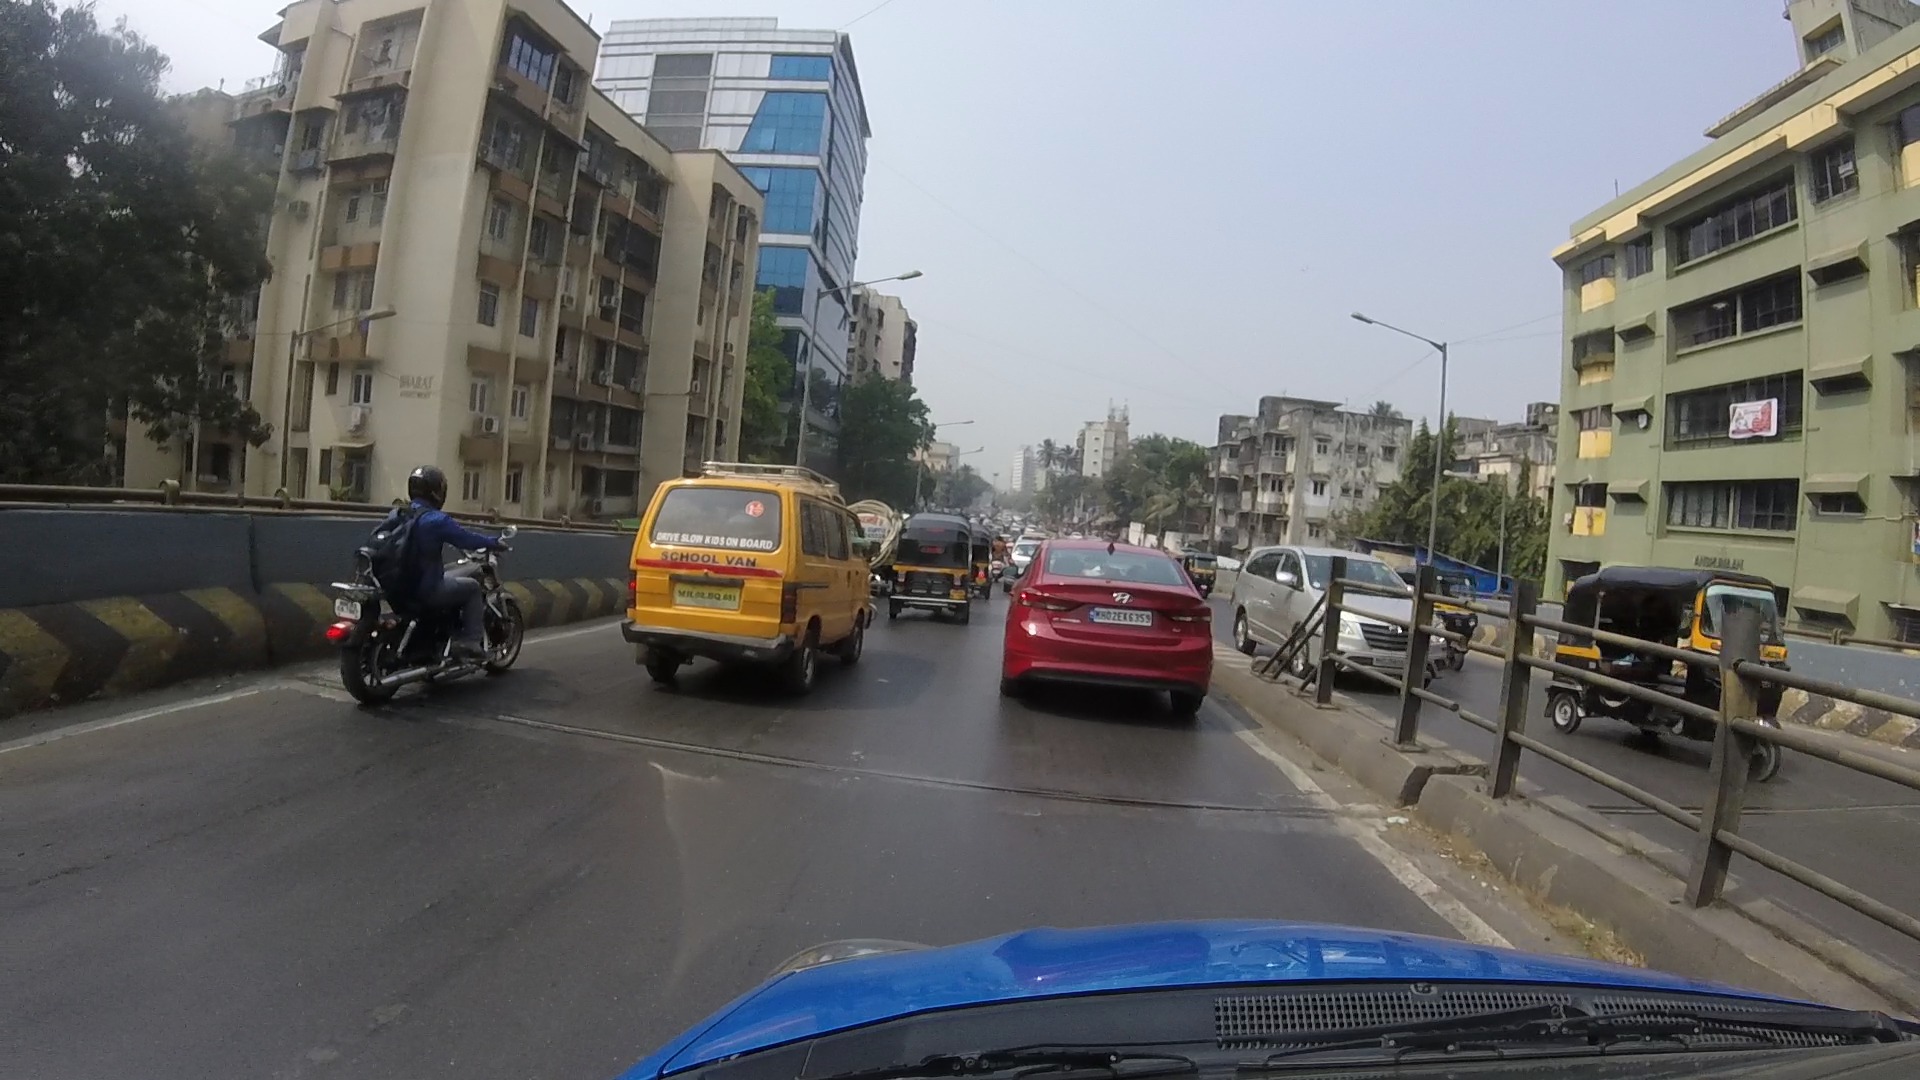bike/scooter: (324, 469, 534, 702)
car: (625, 463, 872, 688), (1007, 530, 1225, 713), (1237, 530, 1440, 698)
rickshaw: (1549, 568, 1782, 745), (878, 510, 990, 626)
